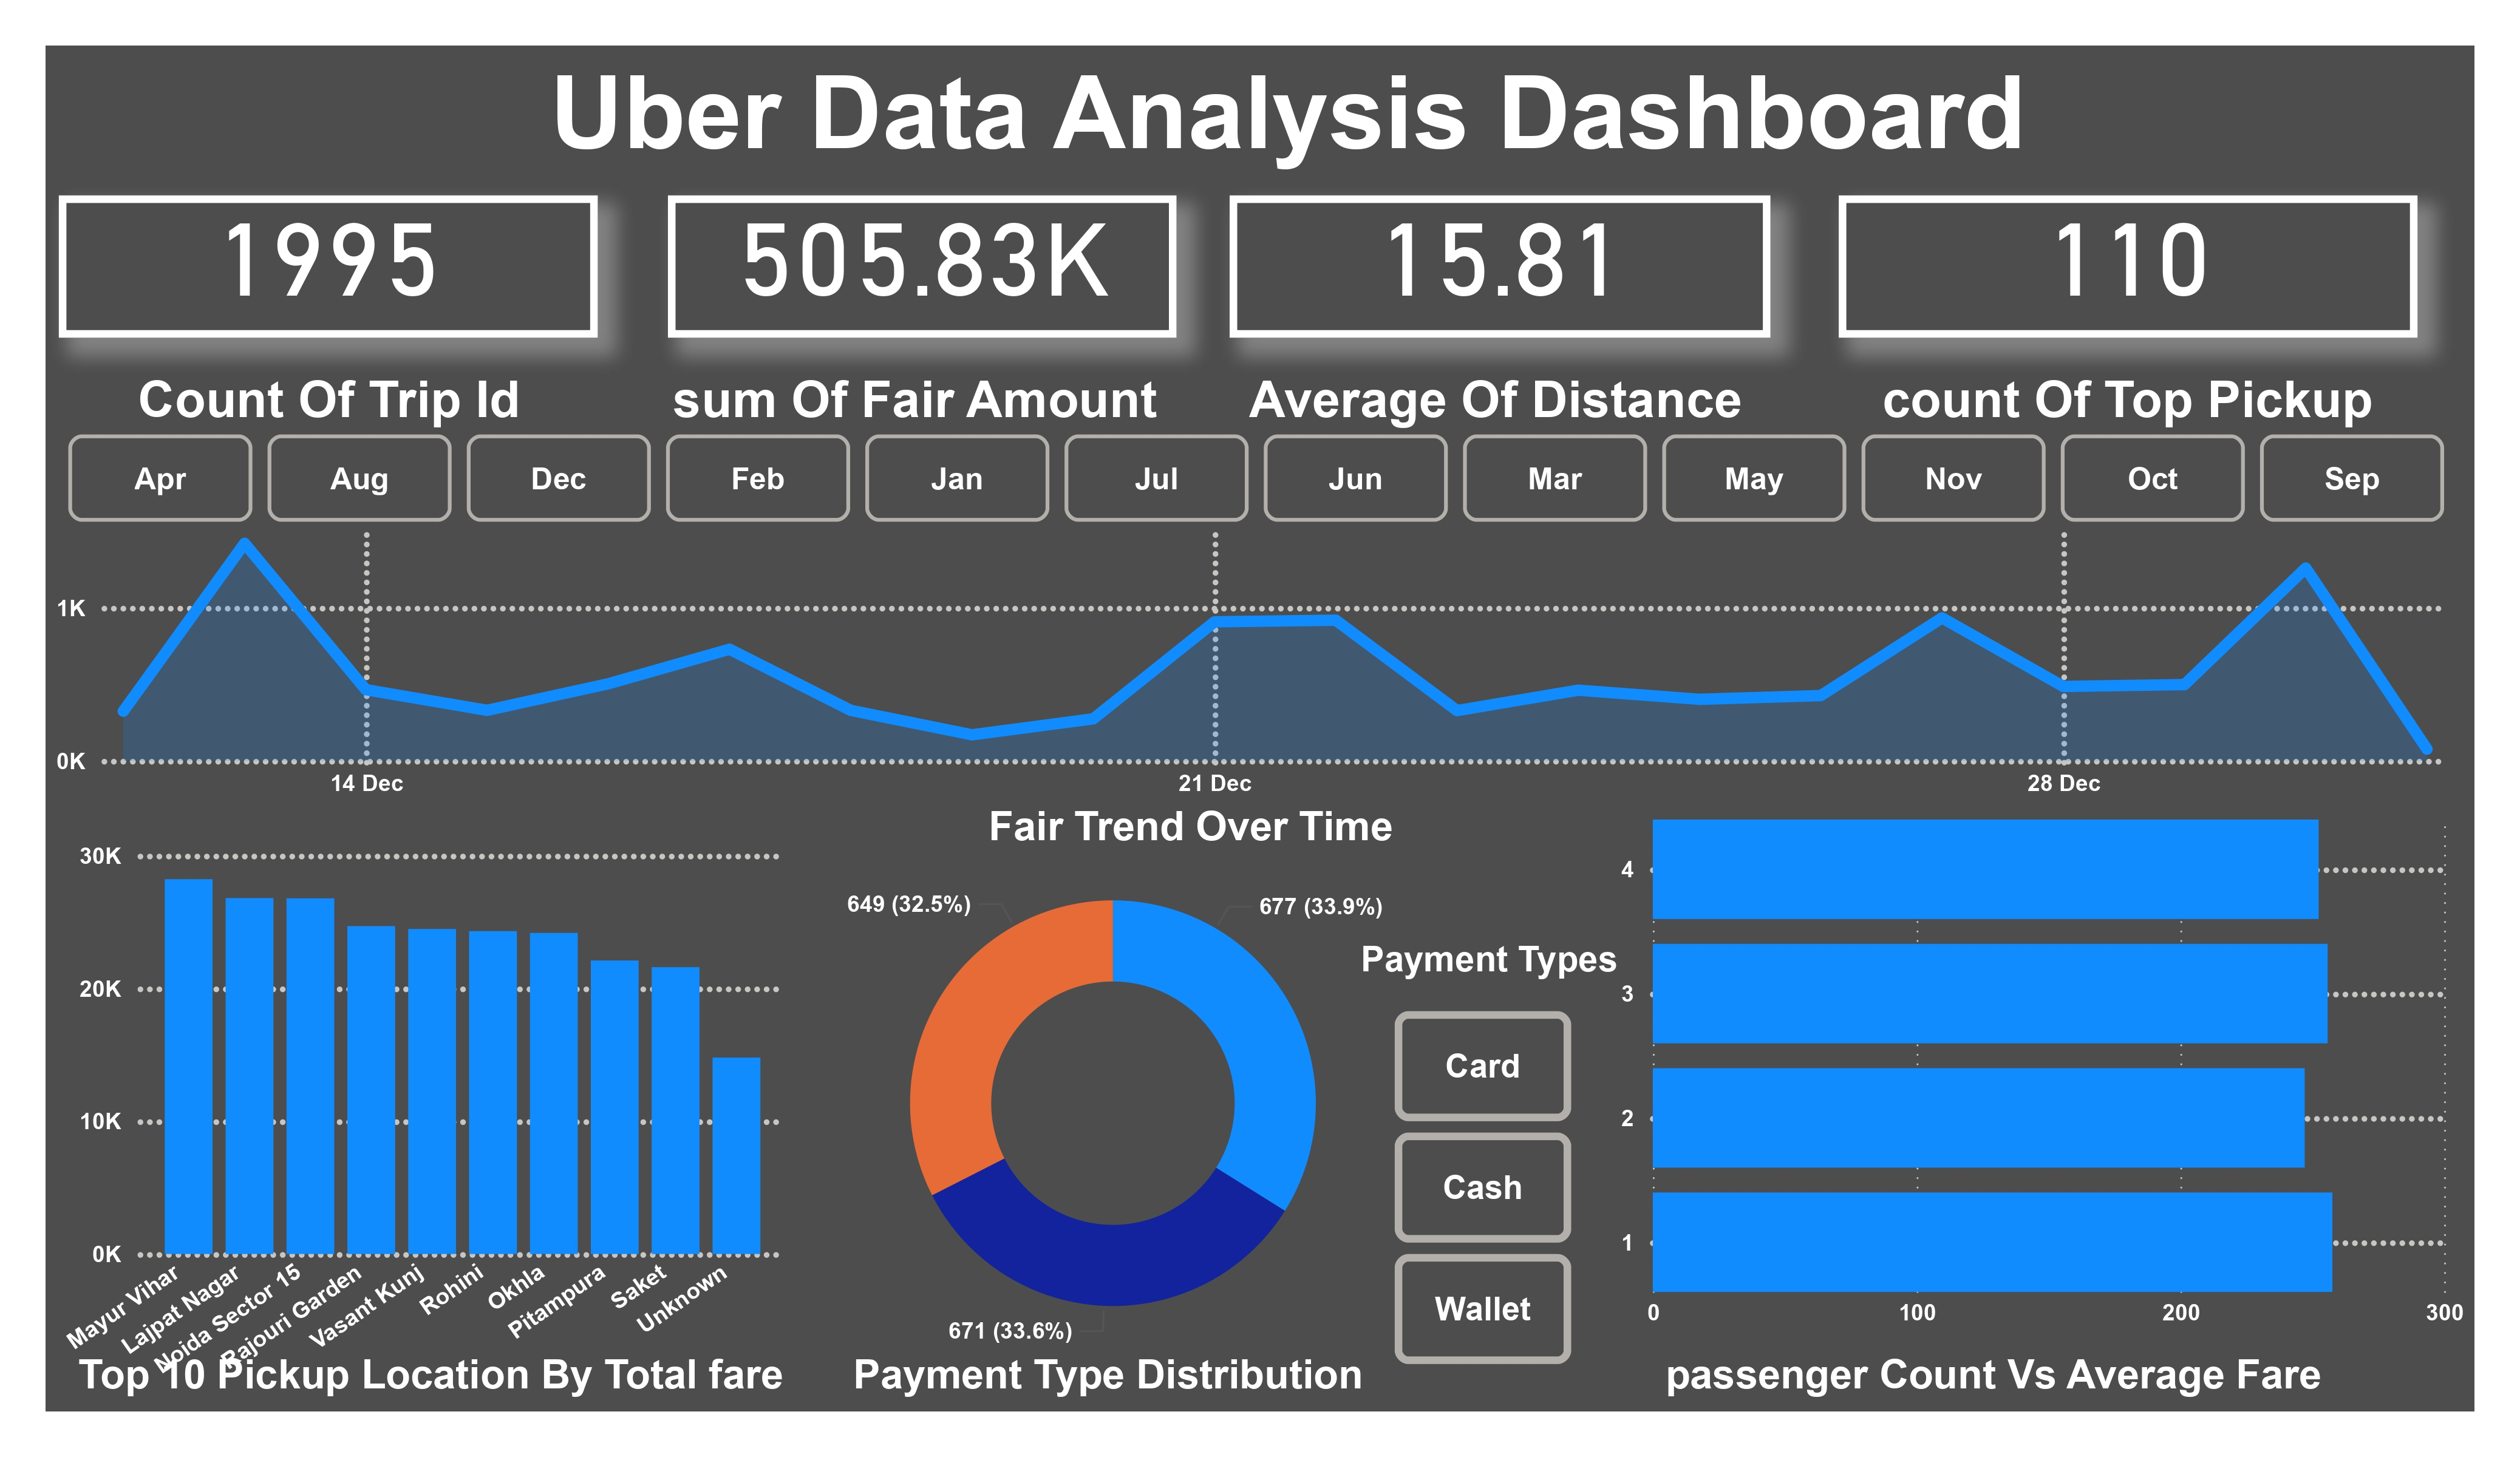

This screenshot's page, from the dashboard's own definition file:
{"tool":"powerbi","page":{"name":"Page 1","canvas":[1280,720],"ordinal":0},"visuals":[{"type":"textbox","box":[0,0,1280.2,79.2],"z":0},{"type":"card","fields":{"Values":["Count(uber_delhi_clean_dataset.Trip_ID)"]},"box":[7.2,79.2,283.7,74.9],"z":1000},{"type":"card","fields":{"Values":["Sum(uber_delhi_clean_dataset.Fare_Amount)"]},"box":[328.3,79.2,267.8,74.9],"z":2000},{"type":"card","fields":{"Values":["Avg(uber_delhi_clean_dataset.Distance_km)"]},"box":[623.5,79.2,285.1,74.9],"z":3000},{"type":"card","fields":{"Values":["CountNonNull(uber_delhi_clean_dataset.Top Pickup)"]},"box":[944.6,79.2,305.3,74.9],"z":4000},{"type":"lineChart","title":"Daily Fare Trend ","fields":{"Y":["Sum(uber_delhi_clean_dataset.Fare_Amount)"],"Category":["uber_delhi_clean_dataset.Date"]},"box":[0,241.9,1280.2,162.7],"z":5000},{"type":"columnChart","fields":{"Category":["uber_delhi_clean_dataset.Pickup_Location"],"Y":["Sum(uber_delhi_clean_dataset.Fare_Amount)"]},"box":[0,412.6,394.5,307.6],"z":6000},{"type":"donutChart","fields":{"Category":["uber_delhi_clean_dataset.Payment_Type"],"Y":["CountNonNull(uber_delhi_clean_dataset.Trip_ID)"]},"box":[378.7,394.6,367.2,325.4],"z":7000},{"type":"clusteredBarChart","fields":{"Y":["Avg(uber_delhi_clean_dataset.Fare_Amount)"],"Category":["uber_delhi_clean_dataset.Passenger_Count"]},"box":[825.1,394.6,455,289.4],"z":8000},{"type":"textbox","box":[27.4,167,244.8,49],"z":9000},{"type":"textbox","box":[311,167,302.4,49],"z":10000},{"type":"textbox","box":[626.4,167,283.7,41.8],"z":11000},{"type":"textbox","box":[951.8,167,298.1,49],"z":12000},{"type":"textbox","box":[0,684,406.1,36],"z":13000},{"type":"textbox","box":[381.6,684,362.9,36],"z":14000},{"type":"textbox","box":[809.3,684,440.6,36],"z":15000},{"type":"textbox","box":[456.5,394.6,301,40.3],"z":16000},{"type":"advancedSlicerVisual","fields":{"Values":["uber_delhi_clean_dataset.Month"]},"box":[7.2,200.2,1273,56.2],"z":17000},{"type":"textbox","box":[688.3,463.7,154.1,54.7],"z":18000},{"type":"advancedSlicerVisual","fields":{"Values":["uber_delhi_clean_dataset.Payment_Type"]},"box":[705.6,504,103.7,198.7],"z":19000}]}

Visuals, with their boxes in screenshot pixels (x1, y1, x2, y2):
textbox: box(0, 33, 2465, 192)
card - Count(uber_delhi_clean_dataset.Trip_ID): box(0, 192, 474, 343)
card - Sum(uber_delhi_clean_dataset.Fare_Amount): box(550, 192, 1088, 343)
card - Avg(uber_delhi_clean_dataset.Distance_km): box(1143, 192, 1717, 343)
card - CountNonNull(uber_delhi_clean_dataset.Top Pickup): box(1790, 192, 2405, 343)
"Daily Fare Trend " lineChart: box(0, 520, 2465, 847)
columnChart - uber_delhi_clean_dataset.Pickup_Location x Sum(uber_delhi_clean_dataset.Fare_Amount): box(0, 863, 683, 1456)
donutChart - uber_delhi_clean_dataset.Payment_Type x CountNonNull(uber_delhi_clean_dataset.Trip_ID): box(651, 827, 1390, 1456)
clusteredBarChart - Avg(uber_delhi_clean_dataset.Fare_Amount) x uber_delhi_clean_dataset.Passenger_Count: box(1549, 827, 2465, 1409)
textbox: box(0, 369, 437, 467)
textbox: box(514, 369, 1123, 467)
textbox: box(1149, 369, 1720, 453)
textbox: box(1804, 369, 2405, 467)
textbox: box(0, 1409, 706, 1456)
textbox: box(656, 1409, 1387, 1456)
textbox: box(1517, 1409, 2405, 1456)
textbox: box(808, 827, 1413, 908)
advancedSlicerVisual - uber_delhi_clean_dataset.Month: box(0, 436, 2465, 549)
textbox: box(1274, 966, 1584, 1076)
advancedSlicerVisual - uber_delhi_clean_dataset.Payment_Type: box(1309, 1047, 1517, 1447)
